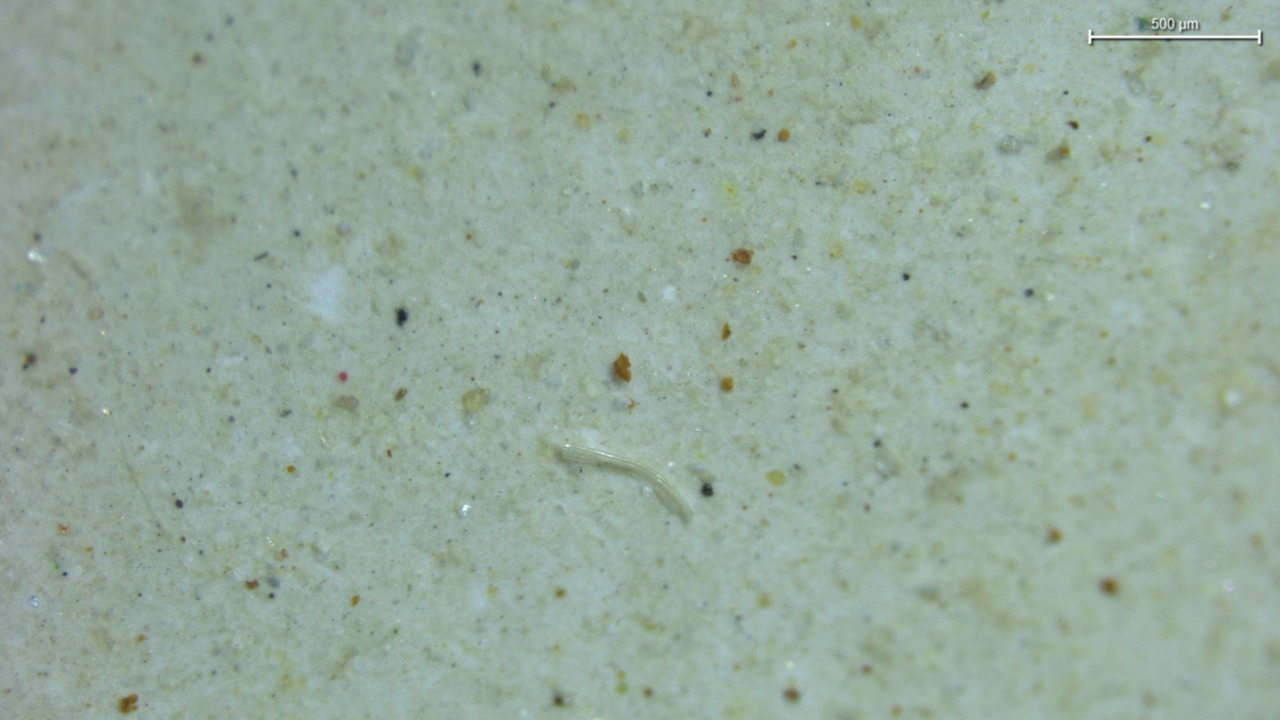microplastic_fragment: (461, 387, 490, 414)
